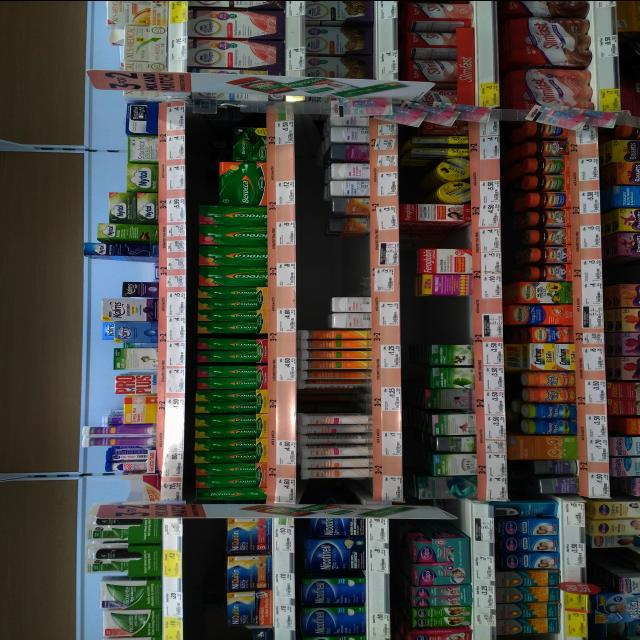empty_space: (308, 237, 368, 293), (417, 300, 471, 336), (304, 482, 368, 498), (429, 227, 463, 243)
